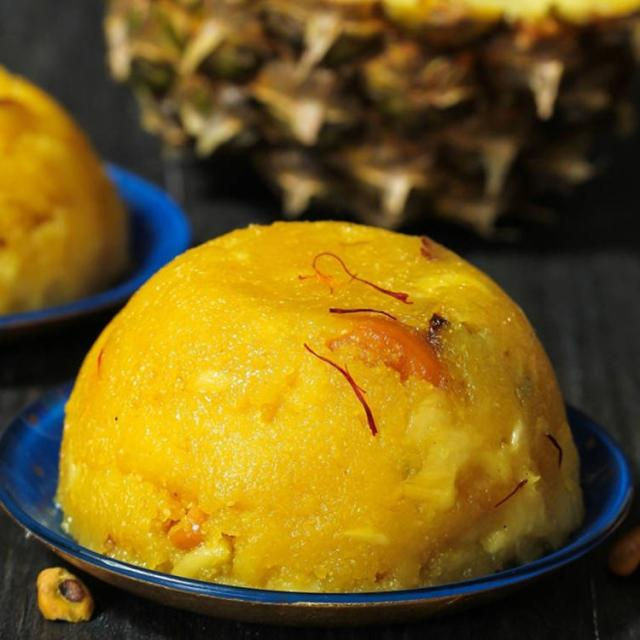kesari bath: (47, 205, 602, 611)
